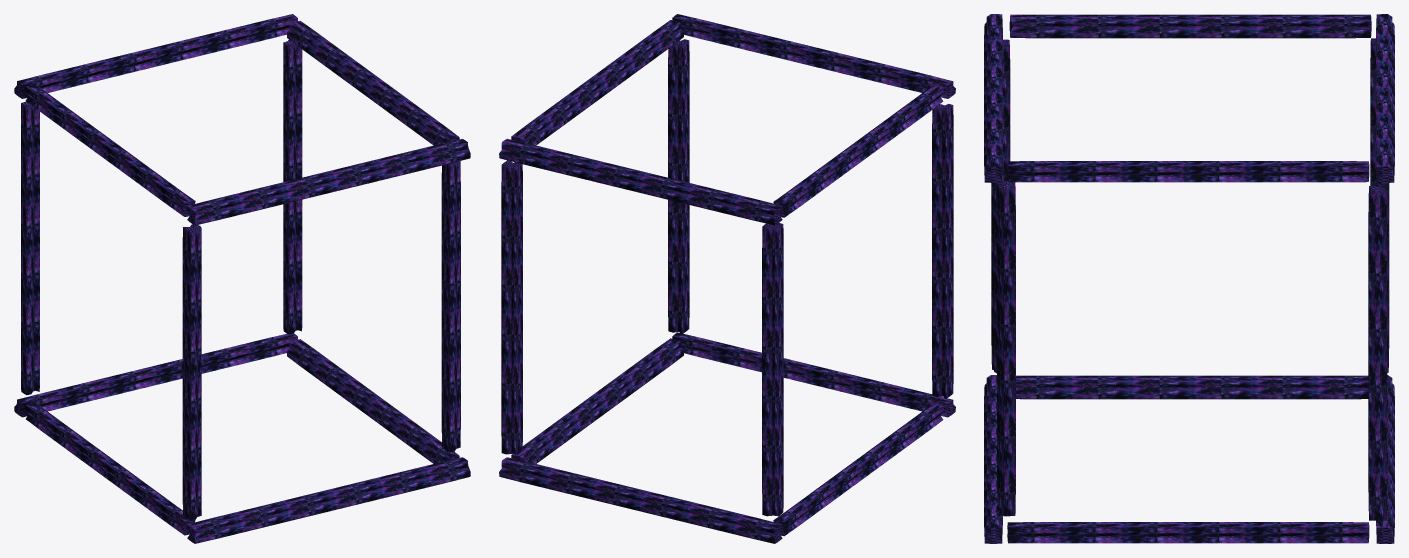
3 views of the same model, side by side, from view 1: azimuth 30°, elevation 25°; view 2: azimuth 150°, elevation 25°; view 3: azimuth 270°, elevation 25° (orthographic). The views are drawn at different scales.
Parts seen in each view (by area): view 1: Cube.005; view 2: Cube.005; view 3: Cube.005.
Boxes of the visible parts, x1,y1,x2,y2 form: Cube.005: (14,14,470,543); Cube.005: (499,14,955,543); Cube.005: (984,14,1394,543).
Size of the model in its own units: 6.14 by 7.02 by 6.91.
1 material, 1 textured.
